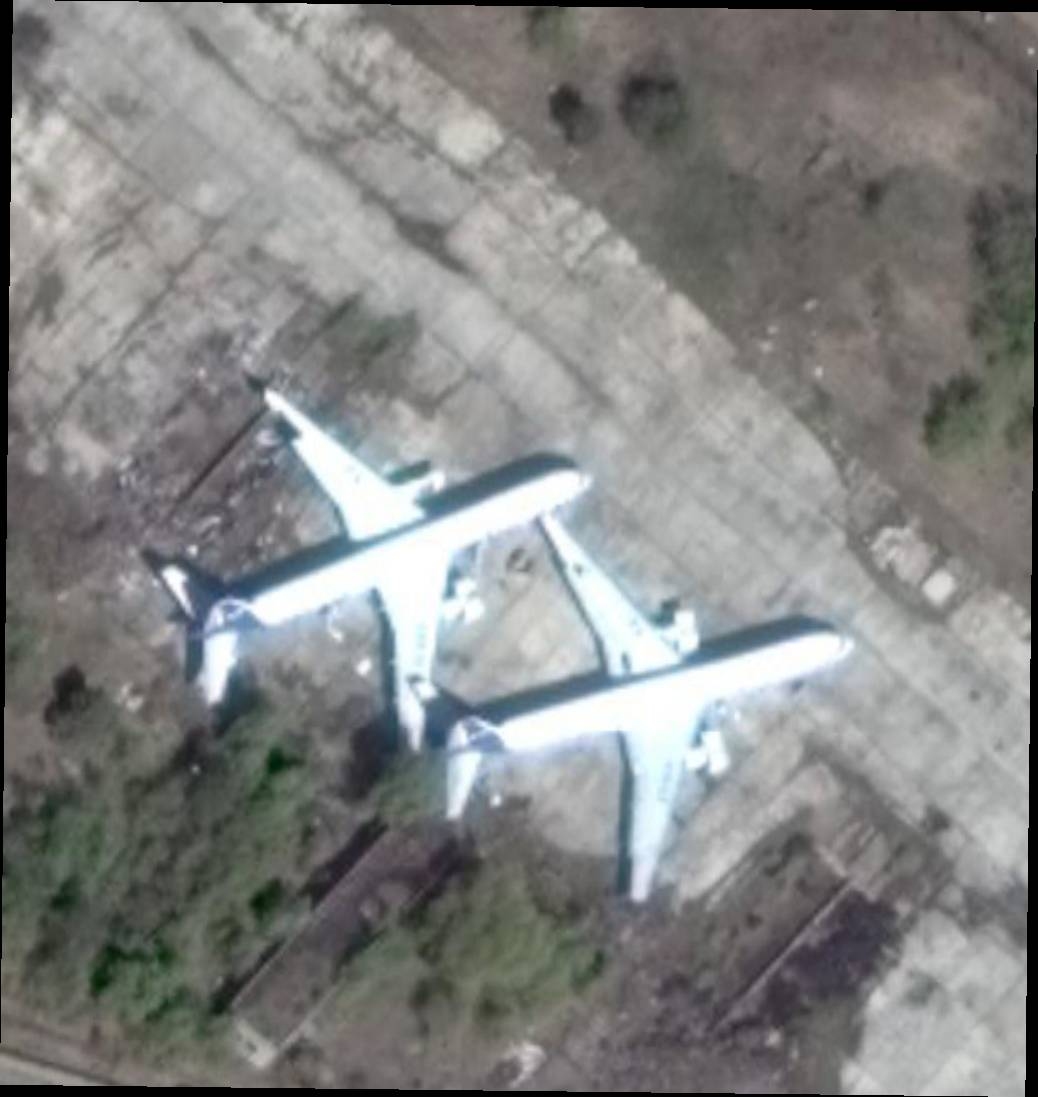plane: (117, 300, 662, 810), (377, 455, 924, 930)
